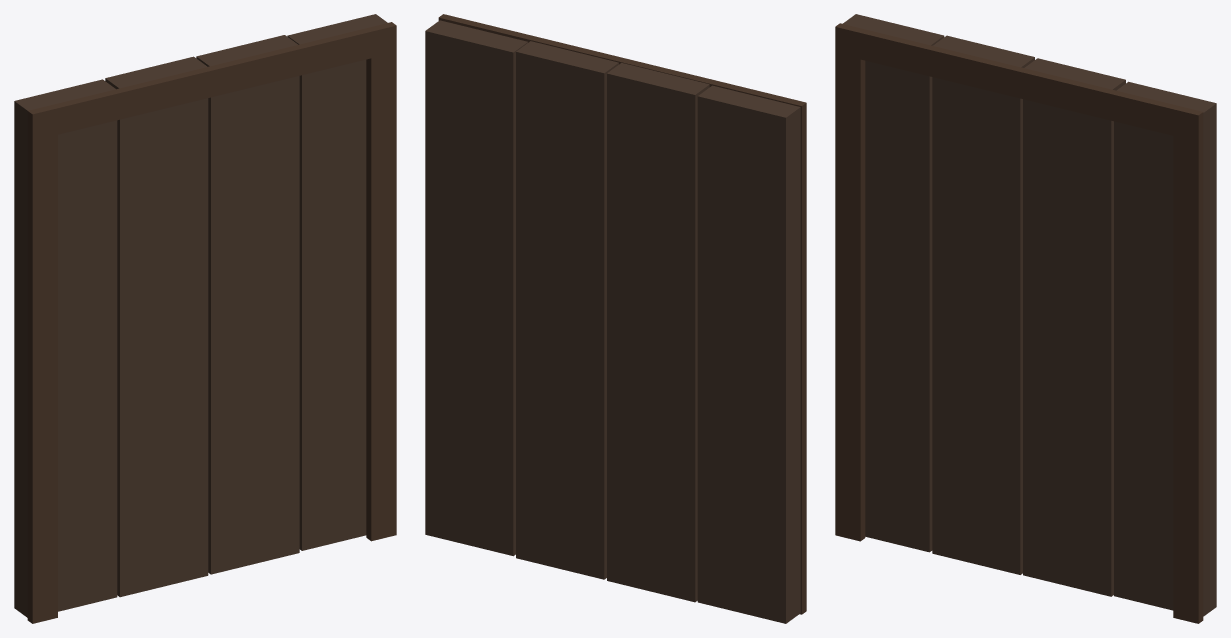
File: door_carved.glb
The picture shows the model from 3 angles, left to right: view 1: azimuth 30°, elevation 25°; view 2: azimuth 150°, elevation 25°; view 3: azimuth 330°, elevation 25°; orthographic projection.
Visible parts, largest first — view 1: door_carved; view 2: door_carved; view 3: door_carved.
Part boxes in pixels (box(x1,y1,x2,y2)): door_carved: box(14, 14, 396, 623); door_carved: box(425, 14, 806, 623); door_carved: box(835, 14, 1216, 623).
Bounding box in the file's own units: 0.86 × 1.15 × 0.08.
